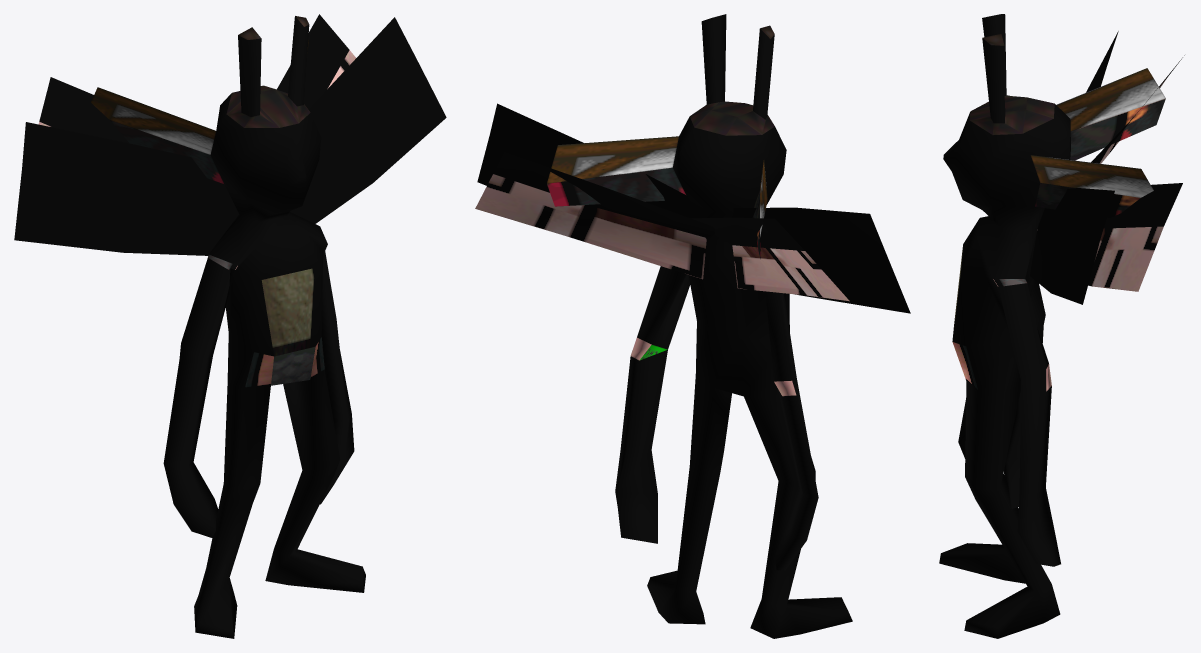
3 views of the same model, side by side, from view 1: azimuth 30°, elevation 25°; view 2: azimuth 150°, elevation 25°; view 3: azimuth 270°, elevation 25° (orthographic). The views are drawn at different scales.
Parts seen in each view (by area): view 1: T1L6M003_33; view 2: T1L6M003_33; view 3: T1L6M003_33.
Part boxes in pixels (x1,y1,x2,y2): T1L6M003_33: [14, 14, 446, 638]; T1L6M003_33: [475, 14, 910, 638]; T1L6M003_33: [939, 14, 1184, 638].
Bounding box in the file's own units: 0.4013 × 0.5174 × 0.2021.
